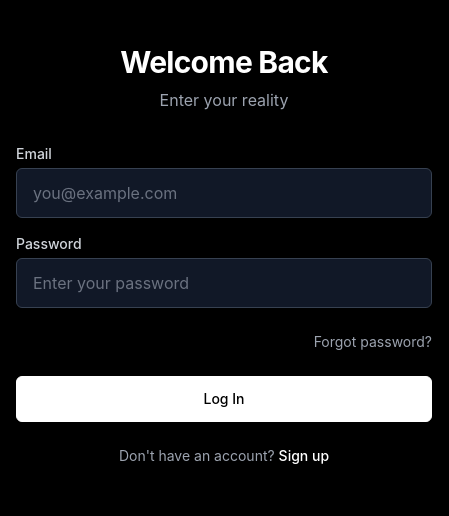
LoginPage › shows error for invalid email format
The image size is (449, 516).
Type "invalid-email" into the field labelled "Email" at (224, 193), box 16,168 -> 432,218
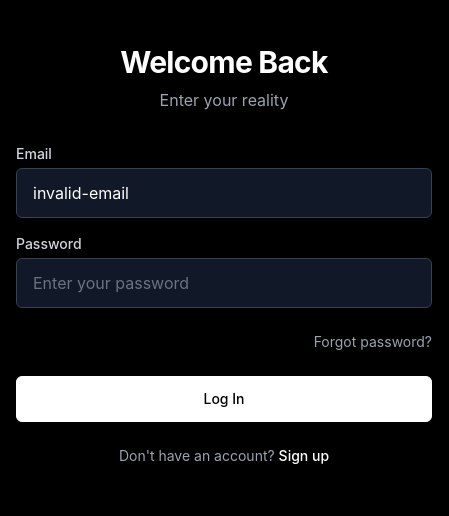
Type "password123" into the password field labelled "Password" at (224, 283), box 16,258 -> 432,308
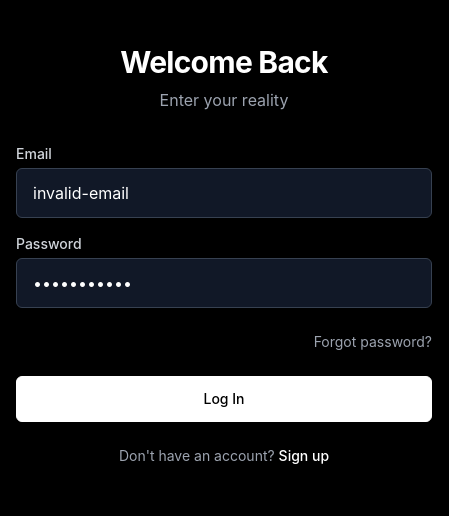
Submit the form "Log In", box 16,144 -> 432,466
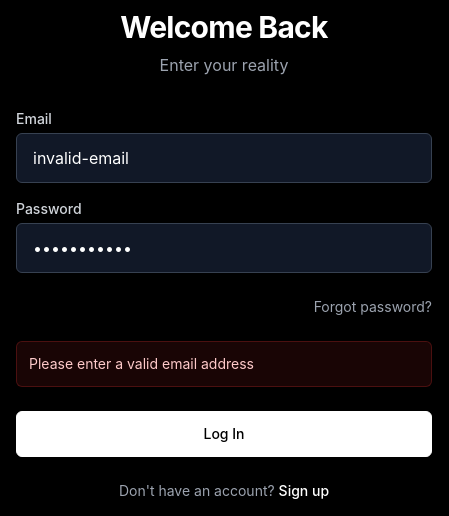
Check: the text "Please enter a valid email address" is shown, box 29,355 -> 254,372
